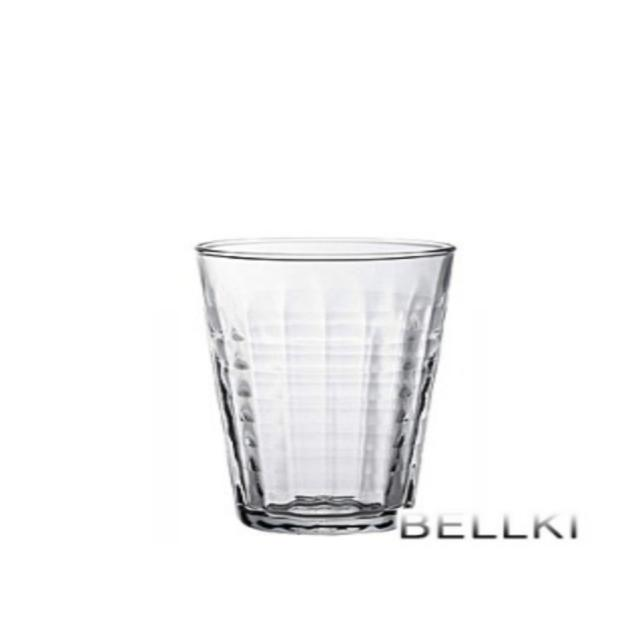recyclable: (174, 220, 475, 543)
